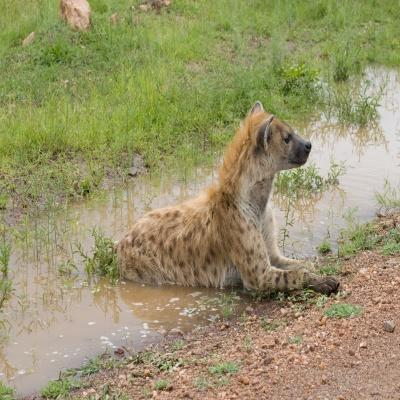hyenas: (54, 72, 371, 339)
